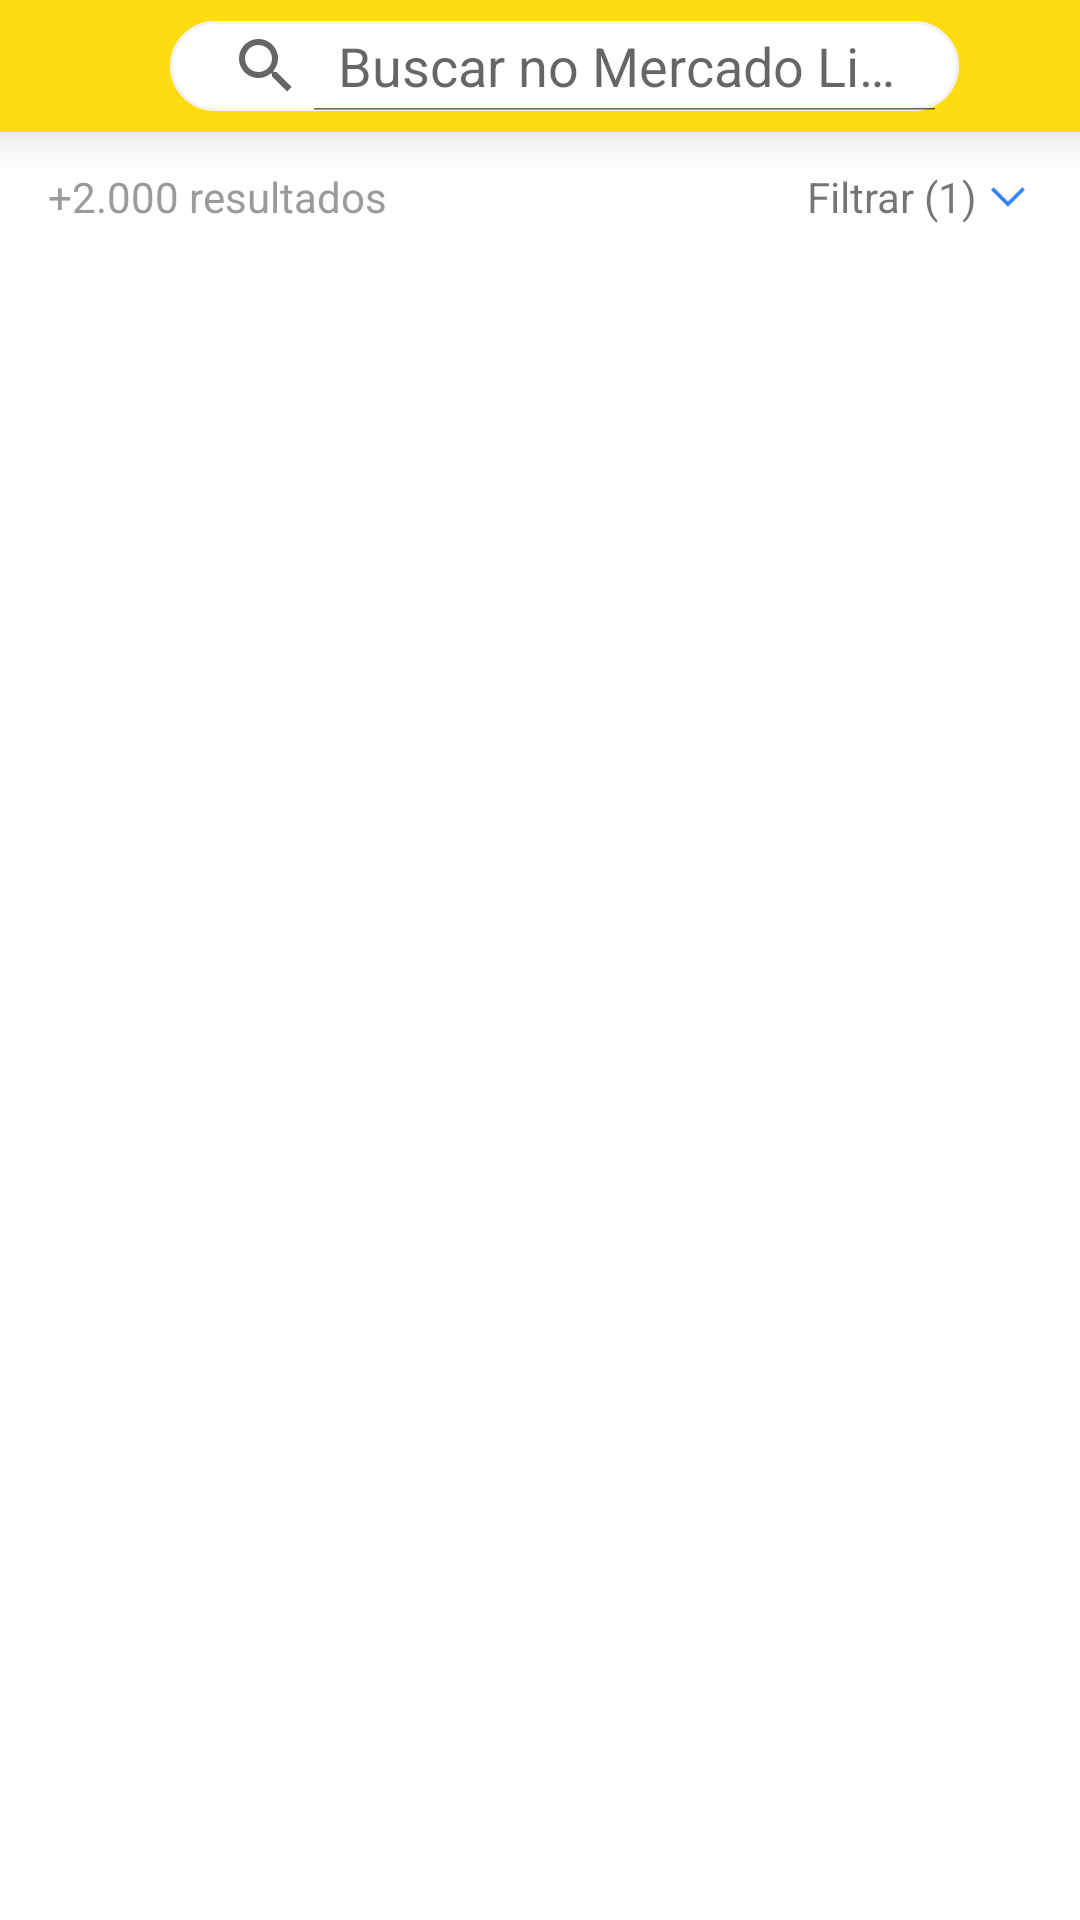

Named icons in this screenshot (1080px x 1920px) and their centers, point (x, y):
chevron down: point (1008, 197)
